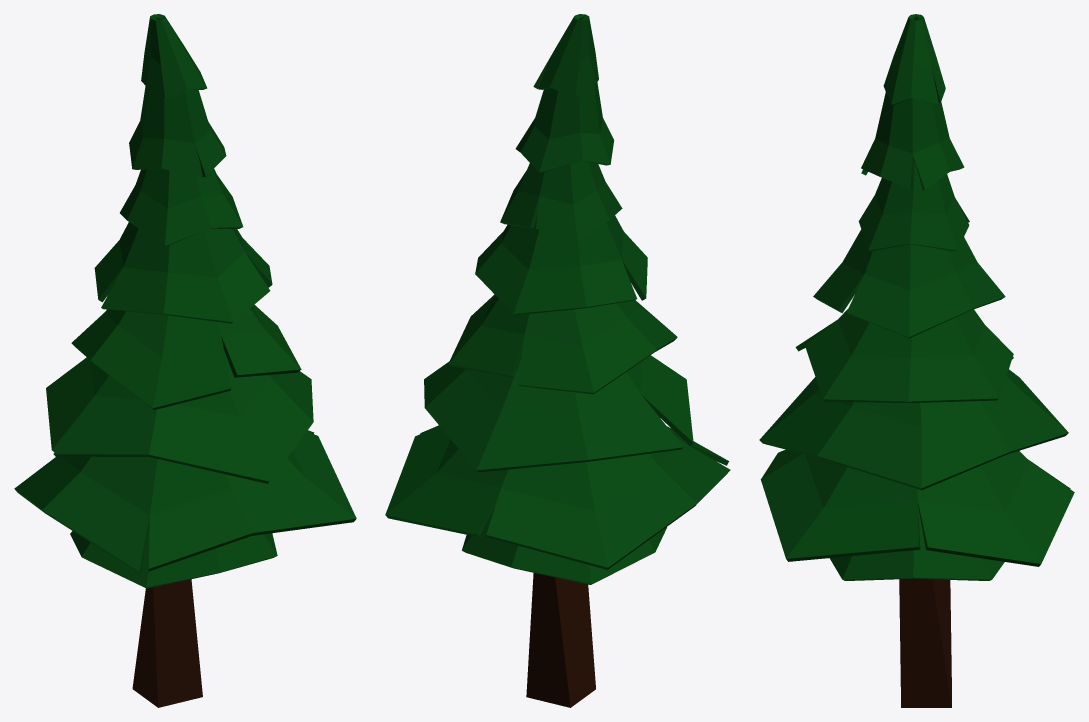
The model's file is tree2.fbx.
3 renders of one model, left to right at view 1: azimuth 30°, elevation 25°; view 2: azimuth 150°, elevation 25°; view 3: azimuth 270°, elevation 25°, orthographic.
Parts seen in each view (by area): view 1: Circle.002; view 2: Circle.002; view 3: Circle.002.
Boxes of the visible parts, x1=… form: Circle.002: x1=14, y1=14, x2=356, y2=707; Circle.002: x1=385, y1=14, x2=730, y2=707; Circle.002: x1=759, y1=14, x2=1074, y2=707.
Size of the model in its own units: 181 by 424 by 180.
